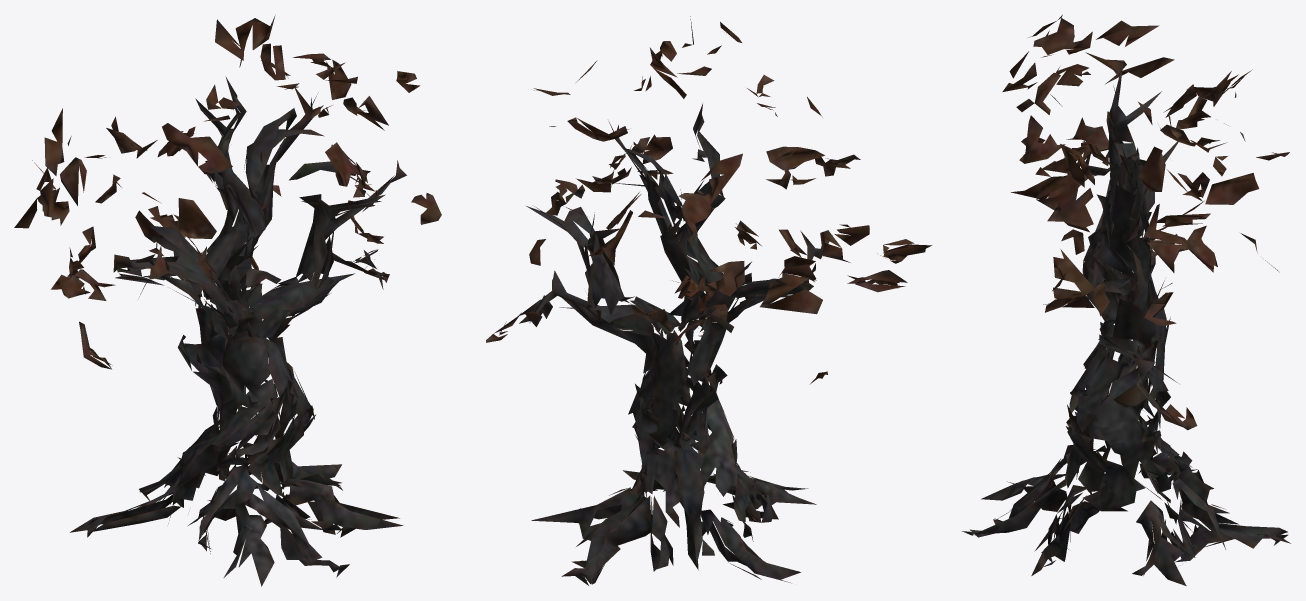
File: arvore_brasa_adulta-lod.glb
The picture shows the model from 3 angles, left to right: view 1: azimuth 30°, elevation 25°; view 2: azimuth 150°, elevation 25°; view 3: azimuth 270°, elevation 25°; orthographic projection. The views are drawn at different scales.
Parts seen in each view (by area): view 1: geometry_0.003; view 2: geometry_0.003; view 3: geometry_0.003.
Boxes of the visible parts, left/top/right/bottom form: geometry_0.003: left=14, top=15, right=441, bottom=586; geometry_0.003: left=486, top=16, right=932, bottom=585; geometry_0.003: left=962, top=14, right=1290, bottom=585.
Bounding box in the file's own units: 0.789 × 0.9618 × 0.5618.
Materials: 1 (1 with a texture image).
